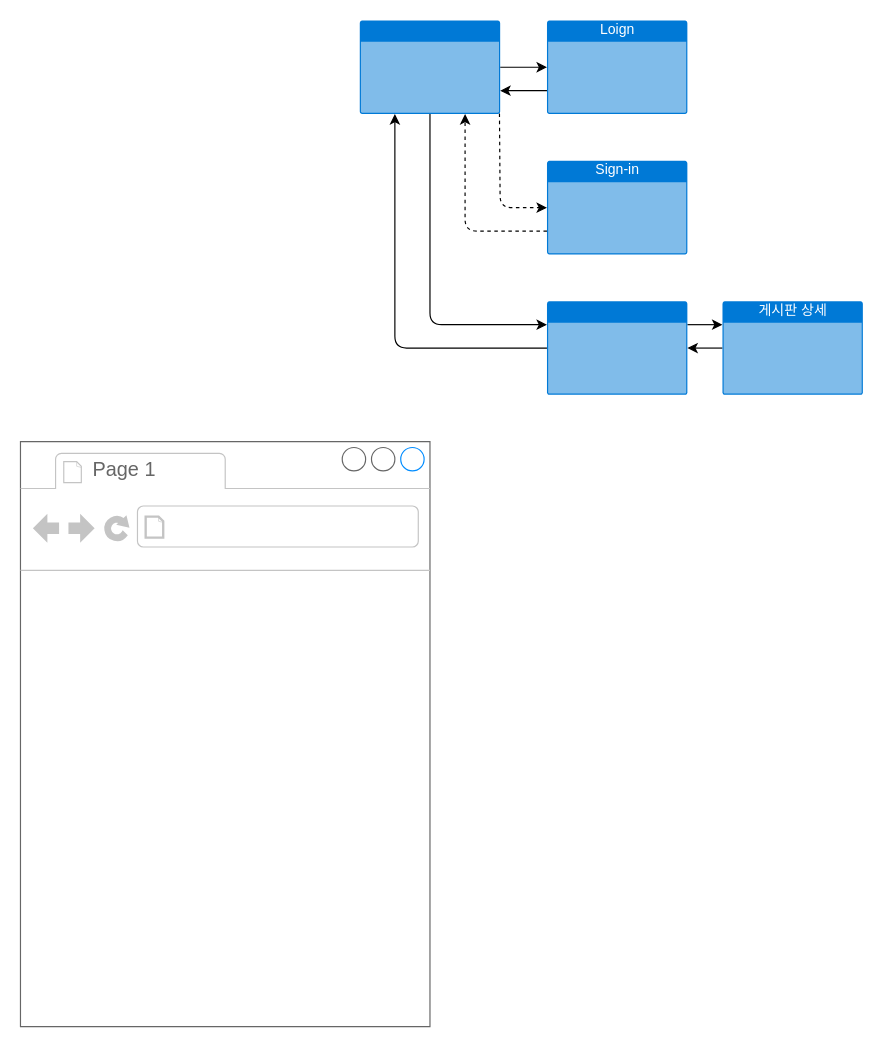
This 883x1047 diagram has some shape labels left out. Here are the shapes that lost their labels. From the top down, the box of each, then its label:
(359, 20, 500, 113): index(/)
(546, 301, 687, 394): 게시판 목록
